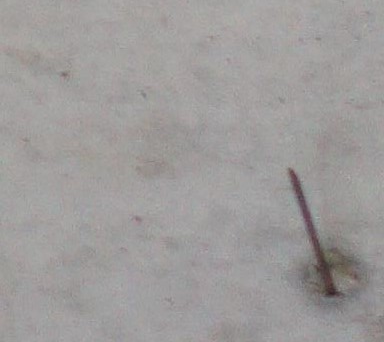Exposed reinforcement: (288, 167, 336, 294)
Spalling: (304, 249, 362, 300)
